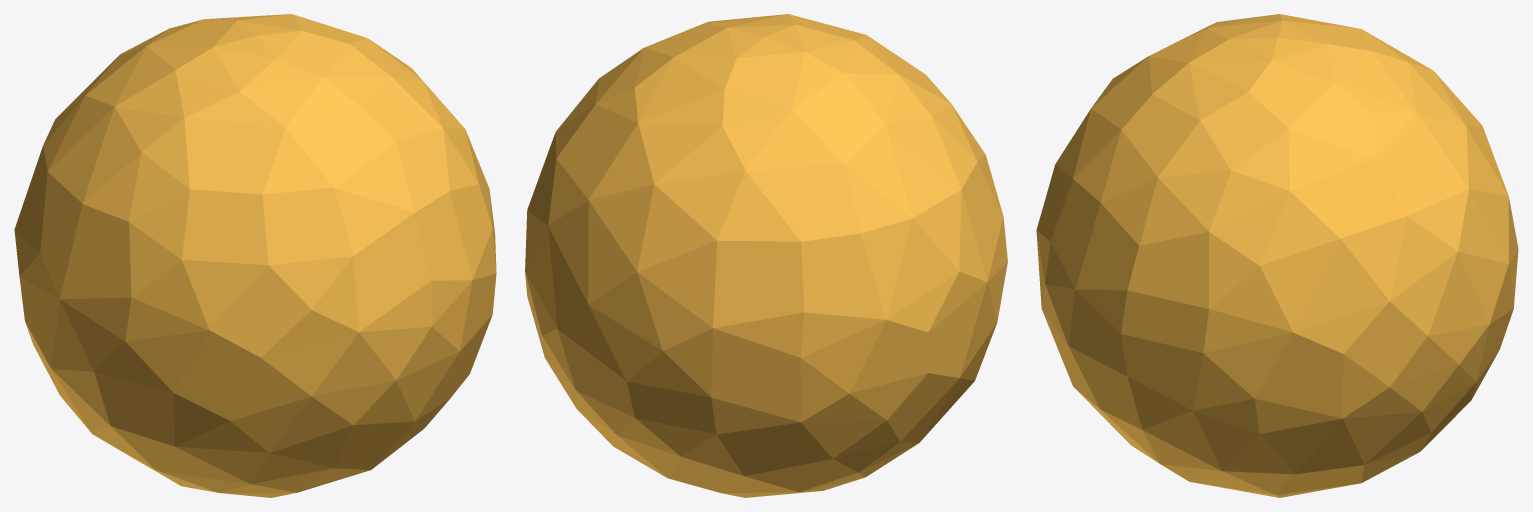
3 views of the same model, side by side, from view 1: azimuth 30°, elevation 25°; view 2: azimuth 150°, elevation 25°; view 3: azimuth 270°, elevation 25° (orthographic).
Parts seen in each view (by area): view 1: Sphere; view 2: Sphere; view 3: Sphere.
Part boxes in pixels (box(x1,y1,x2,y2)): Sphere: box(14, 14, 496, 497); Sphere: box(525, 14, 1007, 497); Sphere: box(1036, 14, 1518, 497).
Size of the model in its own units: 200 by 200 by 200.
